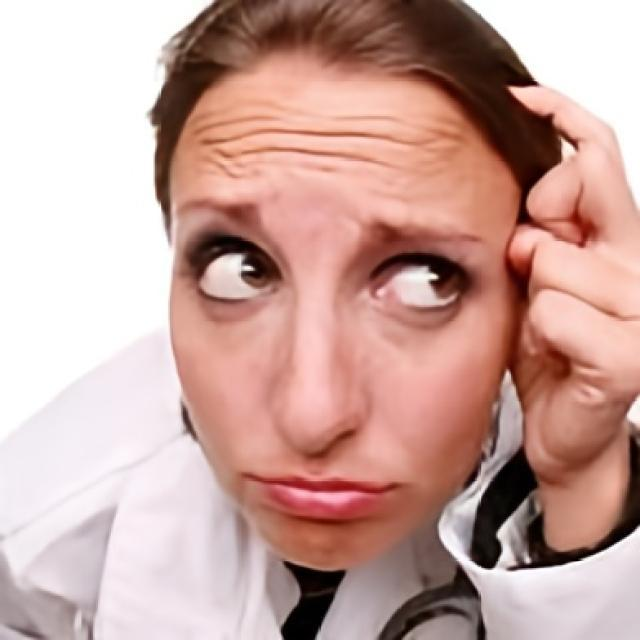fear: (166, 105, 516, 574)
